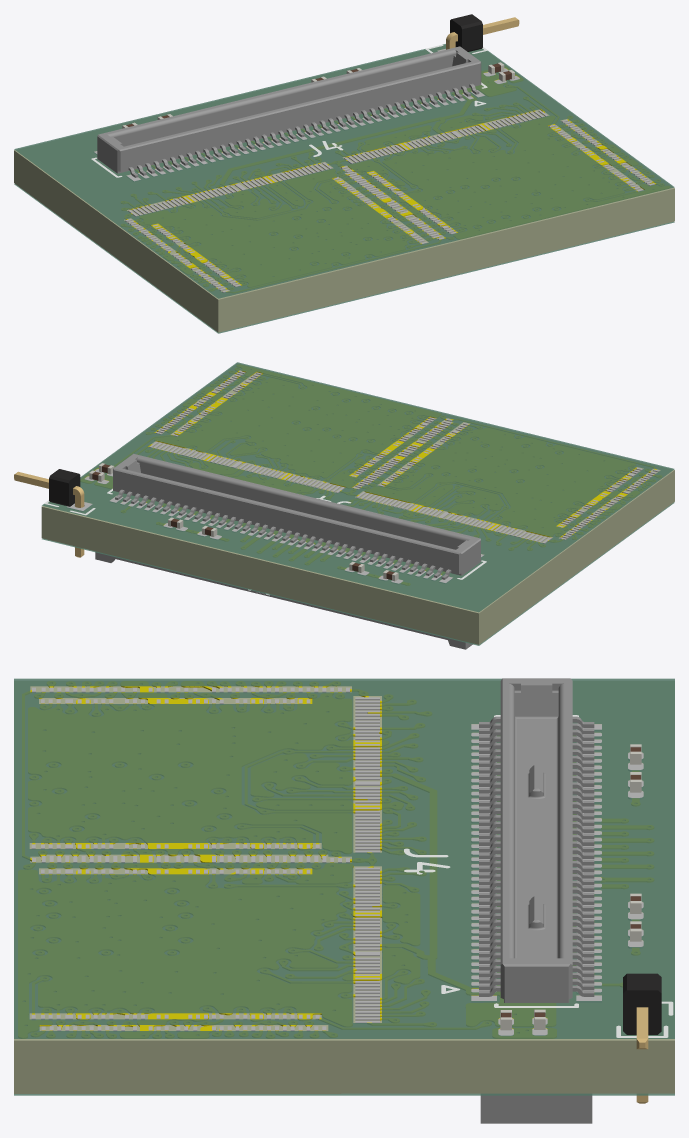
File: asic-bottom-v3.glb
3 views of the same model, one above another, from view 1: azimuth 30°, elevation 25°; view 2: azimuth 150°, elevation 25°; view 3: azimuth 270°, elevation 25° (orthographic). The views are drawn at different scales.
Visible parts, largest first — view 1: =>[0:1:1:15], =>[0:1:1:17], =>[0:1:1:10], =>[0:1:1:5], =>[0:1:1:11], =>[0:1:1:7], =>[0:1:1:16]; view 2: =>[0:1:1:15], =>[0:1:1:17], =>[0:1:1:10], =>[0:1:1:5], =>[0:1:1:11], =>[0:1:1:7], =>[0:1:1:9], =>[0:1:1:16]; view 3: =>[0:1:1:15], =>[0:1:1:10], =>[0:1:1:17], =>[0:1:1:5], =>[0:1:1:11], =>[0:1:1:9], =>[0:1:1:7], =>[0:1:1:16], =>[0:1:1:12], =>[0:1:1:13].
Boxes of the visible parts, box(x1,y1,x2,y2) form: =>[0:1:1:15]: box(14, 44, 674, 298); =>[0:1:1:17]: box(14, 45, 674, 332); =>[0:1:1:10]: box(121, 67, 669, 292); =>[0:1:1:5]: box(97, 46, 481, 177); =>[0:1:1:11]: box(94, 49, 654, 292); =>[0:1:1:7]: box(446, 14, 519, 51); =>[0:1:1:16]: box(14, 184, 674, 333); =>[0:1:1:15]: box(42, 362, 674, 612); =>[0:1:1:17]: box(41, 364, 674, 644); =>[0:1:1:10]: box(81, 365, 661, 585); =>[0:1:1:5]: box(113, 453, 480, 579); =>[0:1:1:11]: box(67, 371, 659, 583); =>[0:1:1:7]: box(14, 469, 84, 557); =>[0:1:1:9]: box(95, 552, 472, 649); =>[0:1:1:16]: box(42, 502, 674, 645); =>[0:1:1:15]: box(14, 678, 674, 1038); =>[0:1:1:10]: box(18, 681, 653, 1038); =>[0:1:1:17]: box(14, 681, 674, 1093); =>[0:1:1:5]: box(479, 678, 594, 1002); =>[0:1:1:11]: box(31, 687, 643, 1035); =>[0:1:1:9]: box(480, 1094, 592, 1123); =>[0:1:1:7]: box(623, 973, 661, 1103); =>[0:1:1:16]: box(14, 1093, 674, 1095); =>[0:1:1:12]: box(22, 682, 651, 1035); =>[0:1:1:13]: box(404, 715, 673, 1037).
Bounding box in the file's own units: 0.0238 × 0.0044 × 0.017.
